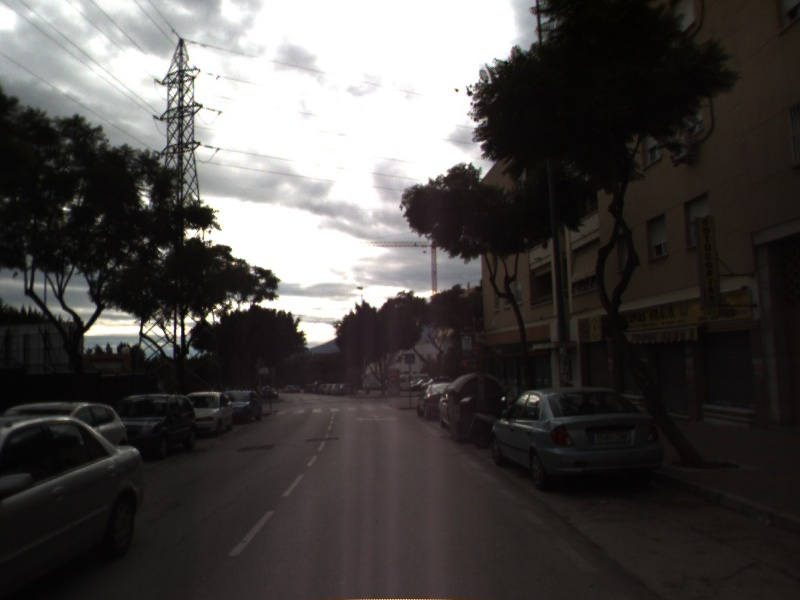STRAIGHT_LEFT_RIGHT: (353, 412, 400, 424)
